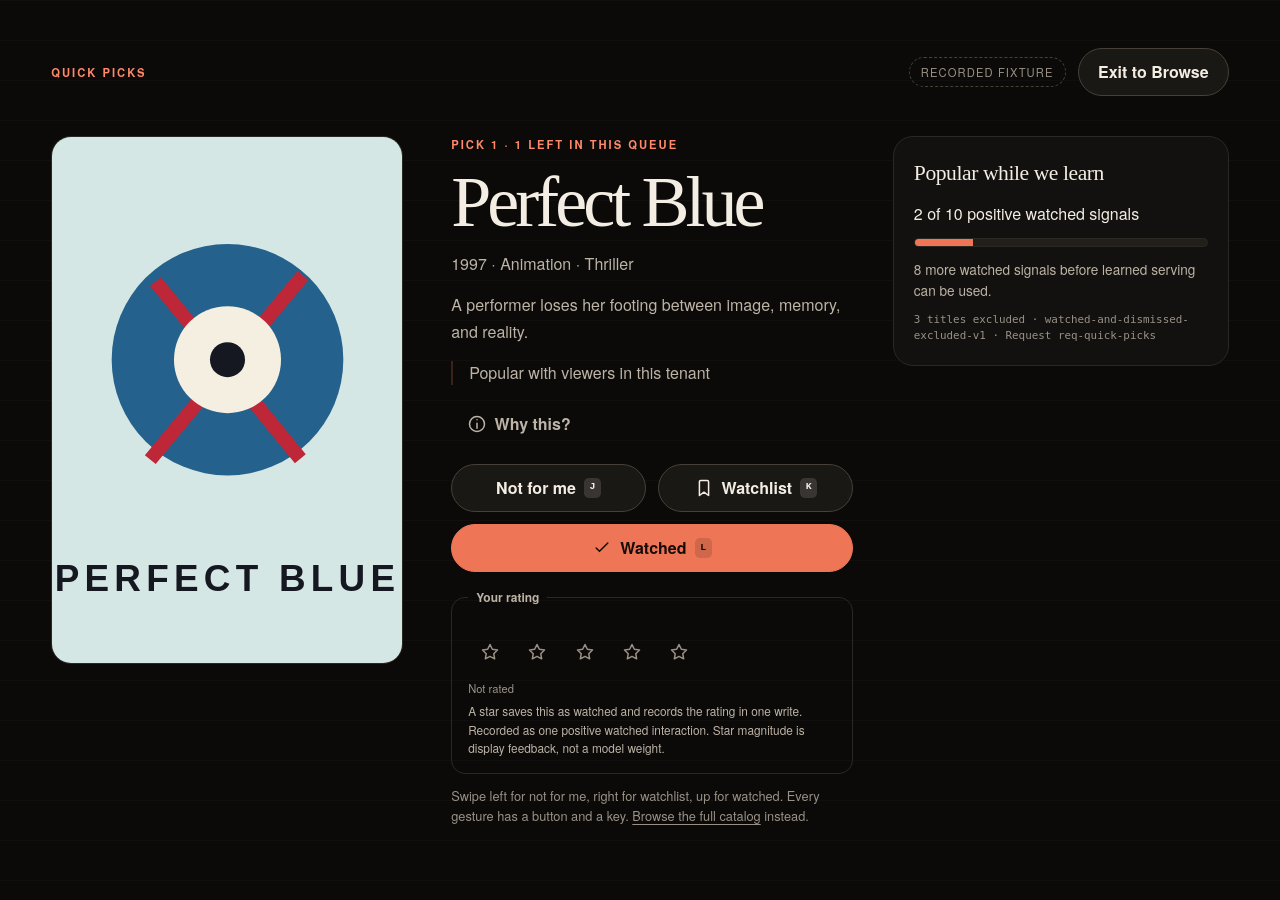
Test case: queue exhaustion › offers a restart and a Browse path once the last card is decided
The image size is (1280, 900).
Click the button "Not for me J".
click(549, 488)  # box [451,464,646,512]
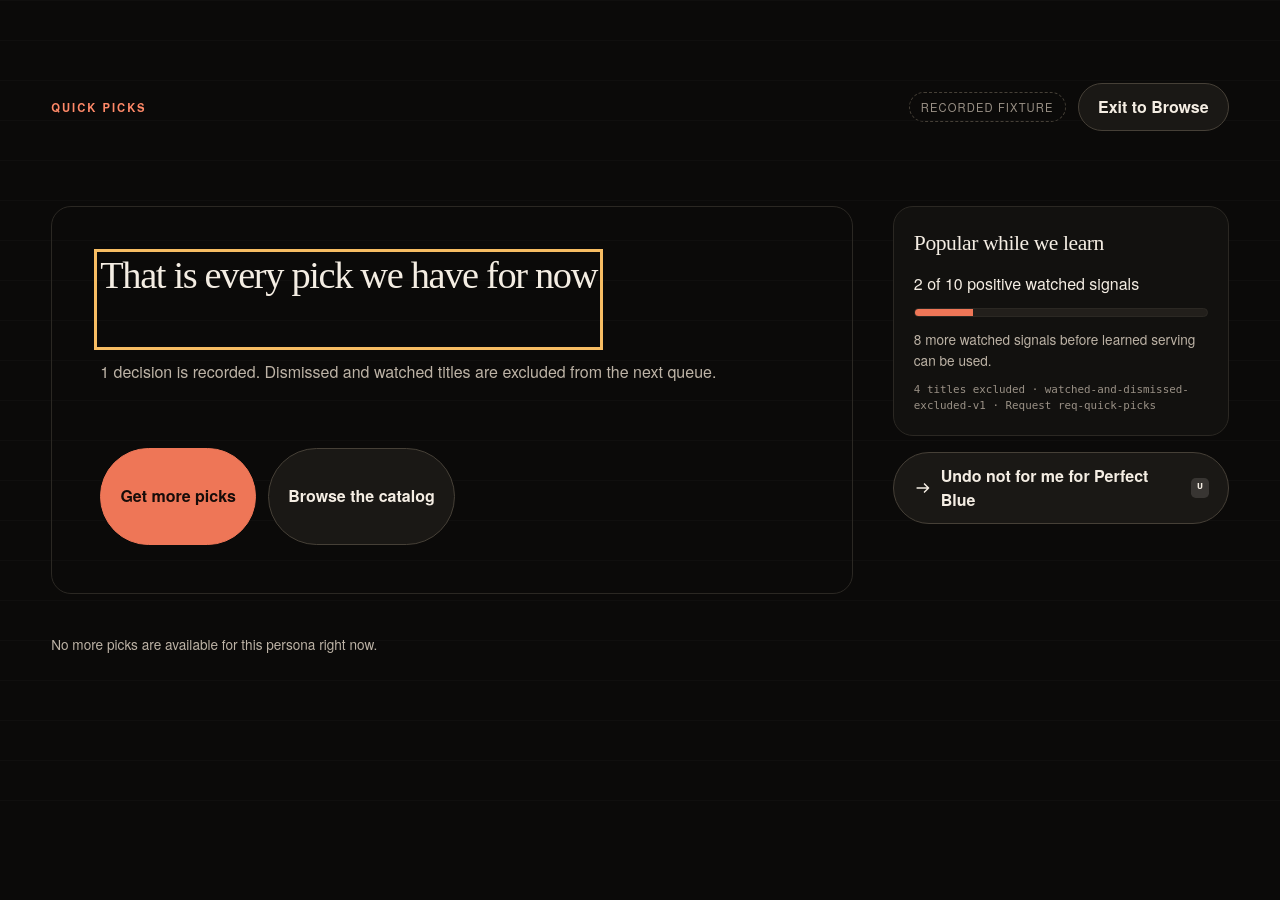
Expected: the link "Exit to Browse" is shown, [1078,83,1229,131]
Expected: the heading "That is every pick we have for now" is shown, [100,254,597,296]
Expected: the button "Get more picks" is enabled, [100,448,256,545]
